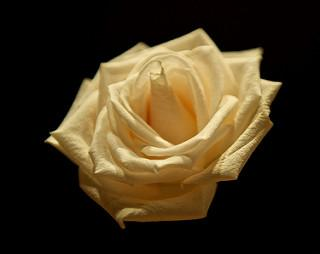Rose: (54, 29, 284, 218)
